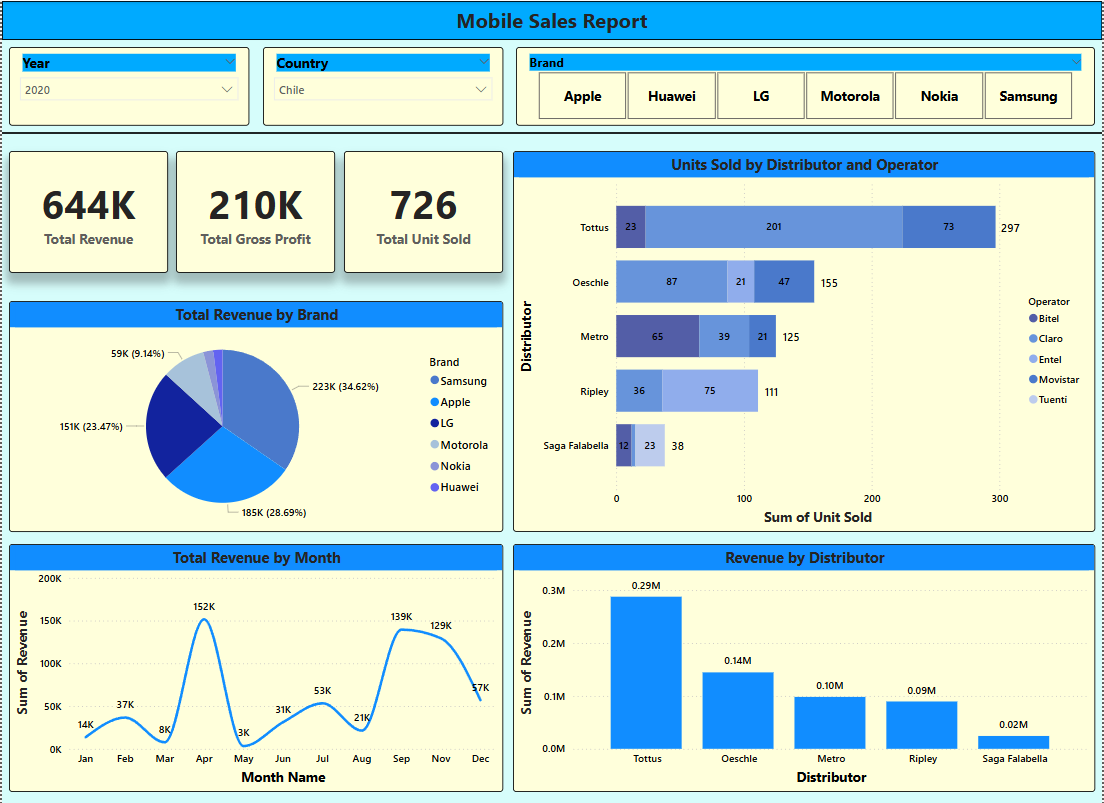

What the dashboard file says about the page in this screenshot:
{"tool":"powerbi","page":{"name":"Page 1","canvas":[1300,950],"ordinal":0},"visuals":[{"type":"textbox","box":[0,0,1299.8,46.1],"z":0},{"type":"slicer","fields":{"Values":["Date Master.Year"]},"box":[8.3,54.4,283.6,93.3],"z":1000},{"type":"slicer","fields":{"Values":["Mobile Sales Data.Country"]},"box":[308.4,54.4,283.6,93.3],"z":2000},{"type":"slicer","fields":{"Values":["Mobile Sales Data.Brand"]},"box":[607.3,54.4,684.1,93.3],"z":3000},{"type":"shape","box":[0,147.7,1299.8,16.5],"z":4000},{"type":"card","fields":{"Values":["Sum(Mobile Sales Data.Revenue)"]},"box":[8.3,177.2,187.9,144.2],"z":5000},{"type":"card","fields":{"Values":["Sum(Mobile Sales Data.Unit Sold)"]},"box":[404.1,177.2,187.9,144.2],"z":6000},{"type":"card","fields":{"Values":["Sum(Mobile Sales Data.Gross Profit)"]},"box":[205.6,177.2,187.9,144.2],"z":7000},{"type":"pieChart","title":"Total Revenue by Brand","fields":{"Category":["Mobile Sales Data.Brand"],"Y":["Sum(Mobile Sales Data.Revenue)"]},"box":[8.3,354.5,583.7,272.9],"z":8000},{"type":"lineChart","title":"Total Revenue by Month","fields":{"Category":["Date Master.Month Name"],"Y":["Sum(Mobile Sales Data.Revenue)"]},"box":[8.3,641.6,583.7,293],"z":9000},{"type":"barChart","title":"Units Sold by Distributor and Operator","fields":{"Y":["Sum(Mobile Sales Data.Unit Sold)"],"Category":["Mobile Sales Data.Distributor"],"Series":["Mobile Sales Data.Operator"]},"box":[603.8,177.2,687.7,450.2],"z":10000},{"type":"clusteredColumnChart","title":"Revenue by Distributor","fields":{"Y":["Sum(Mobile Sales Data.Revenue)"],"Category":["Mobile Sales Data.Distributor"]},"box":[604,642,688,293],"z":11000}]}

Visuals, with their boxes in screenshot pixels (x1, y1, x2, y2), scaled from the page's 1300x950 canvas onto the 1104x803 screenshot:
textbox: (0, 0, 1103, 39)
slicer - Date Master.Year: (7, 46, 248, 125)
slicer - Mobile Sales Data.Country: (262, 46, 503, 125)
slicer - Mobile Sales Data.Brand: (516, 46, 1097, 125)
shape: (0, 125, 1103, 139)
card - Sum(Mobile Sales Data.Revenue): (7, 150, 167, 272)
card - Sum(Mobile Sales Data.Unit Sold): (343, 150, 503, 272)
card - Sum(Mobile Sales Data.Gross Profit): (175, 150, 334, 272)
"Total Revenue by Brand" pieChart: (7, 300, 503, 530)
"Total Revenue by Month" lineChart: (7, 542, 503, 790)
"Units Sold by Distributor and Operator" barChart: (513, 150, 1097, 530)
"Revenue by Distributor" clusteredColumnChart: (513, 543, 1097, 790)
